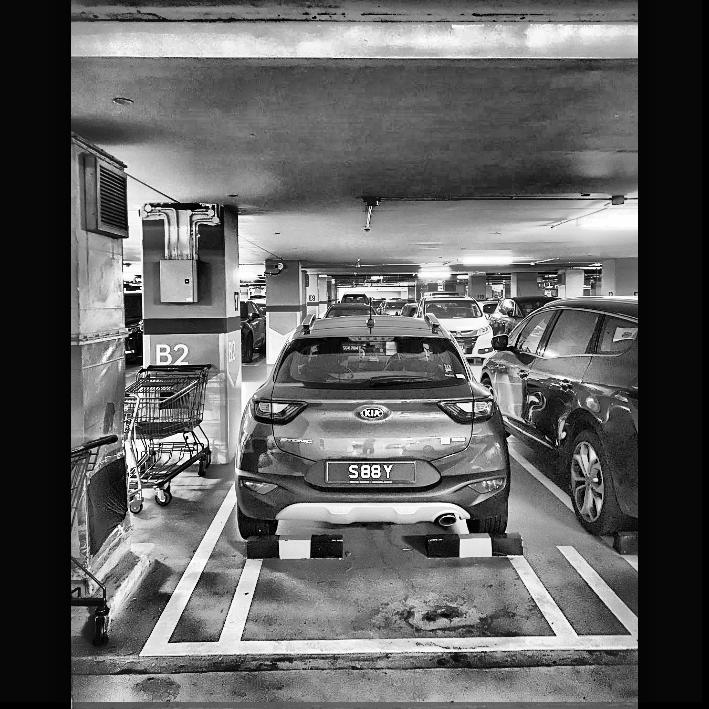License-Plates: (327, 463, 413, 479), (341, 346, 361, 350)
